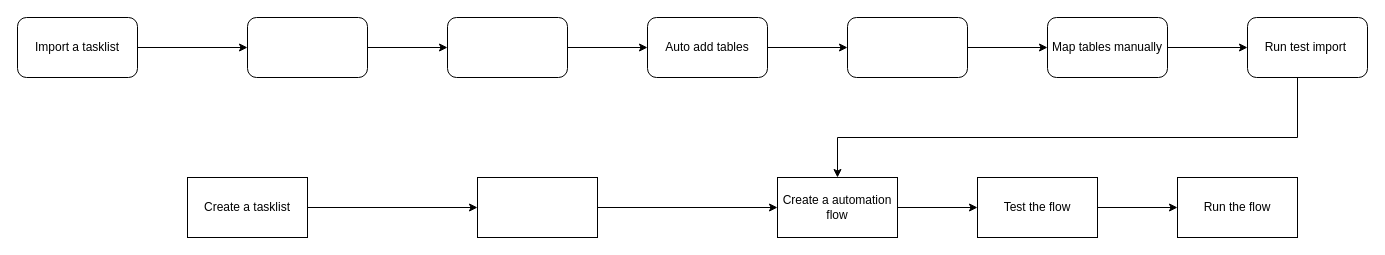
This 1385x255 diagram has some shape labels left out. Here are the shapes that lost their labels. From the top down, the centre of each, then its label:
(307,47): Select where to import from
(507,47): Choose autosync if available
(907,47): Manually add table
(537,207): Add fields
